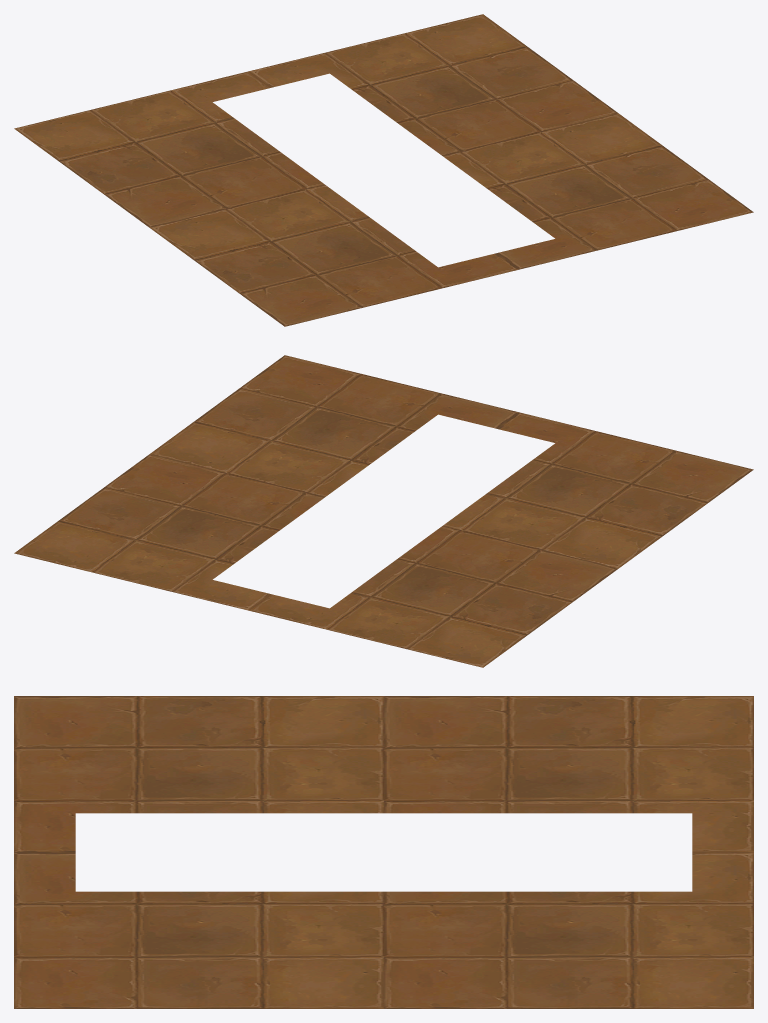
File: shakian_bottom_base4_tombtile04_01.FBX
3 views of the same model, one above another, from view 1: azimuth 30°, elevation 25°; view 2: azimuth 150°, elevation 25°; view 3: azimuth 270°, elevation 25° (orthographic). The views are drawn at different scales.
Parts seen in each view (by area): view 1: shakian_bottom_base4_tombtile04_01; view 2: shakian_bottom_base4_tombtile04_01; view 3: shakian_bottom_base4_tombtile04_01.
Part boxes in pixels (x1=…): shakian_bottom_base4_tombtile04_01: x1=14, y1=14, x2=753, y2=326; shakian_bottom_base4_tombtile04_01: x1=14, y1=355, x2=753, y2=667; shakian_bottom_base4_tombtile04_01: x1=14, y1=696, x2=753, y2=1008.
Size of the model in its own units: 8 by 2.27e-15 by 8.
